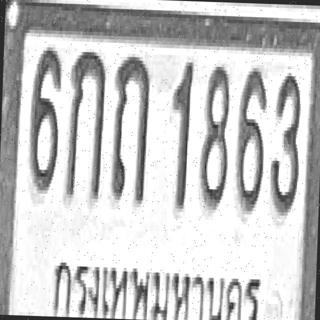A01: (65, 46, 106, 200)
A22: (110, 51, 151, 202)
N01: (168, 58, 193, 209)
N03: (269, 70, 301, 214)
N06: (28, 45, 62, 192), (234, 64, 267, 212)
N08: (198, 61, 231, 208)
P04: (46, 244, 267, 320)
